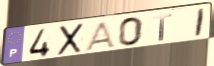0: (116, 16, 147, 48)
4: (28, 27, 52, 59)
A: (83, 20, 118, 51)
I: (193, 7, 207, 39)
T: (152, 12, 174, 42)
X: (56, 21, 86, 57)
